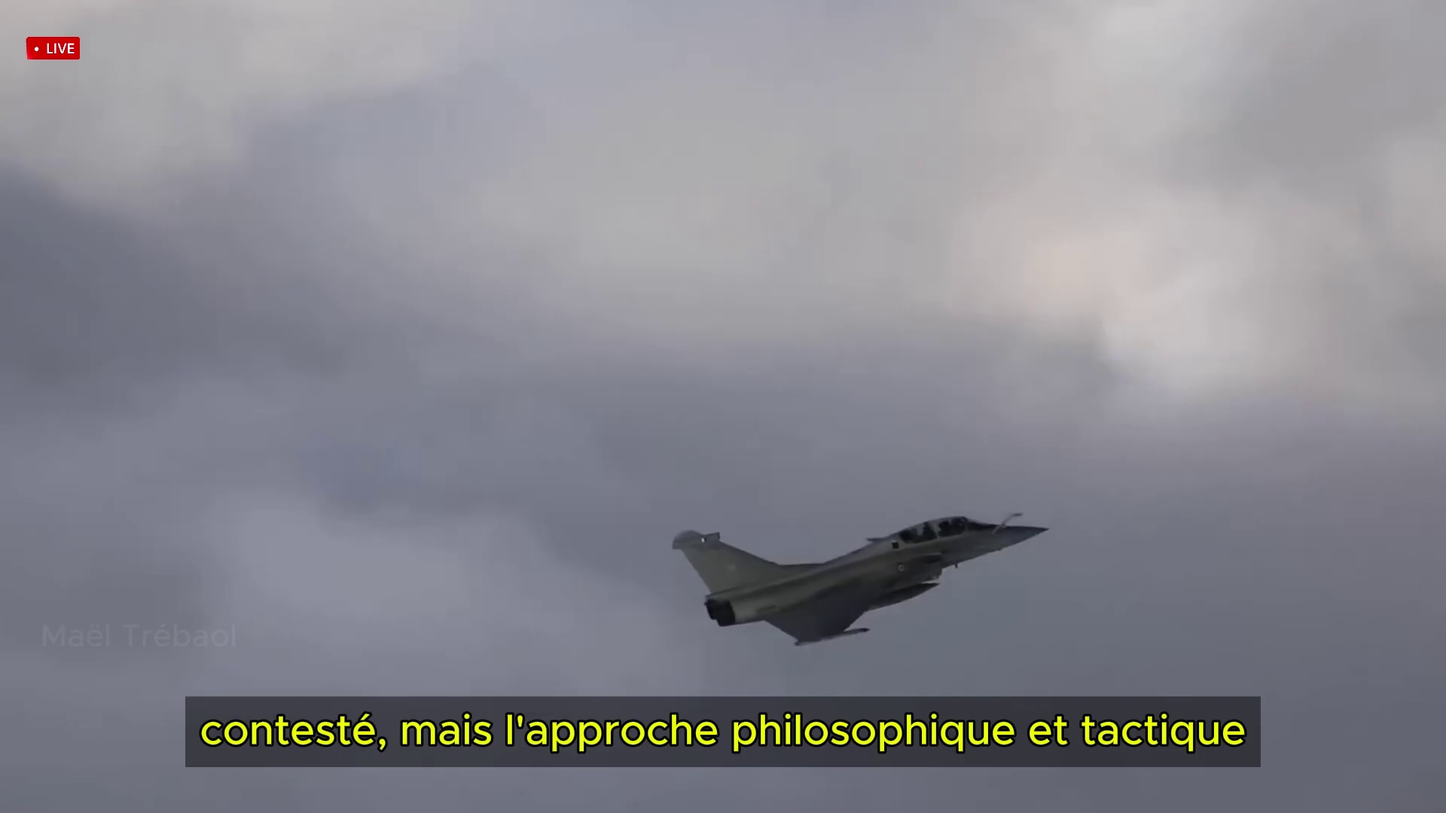Rafale: (670, 515, 1046, 648)
